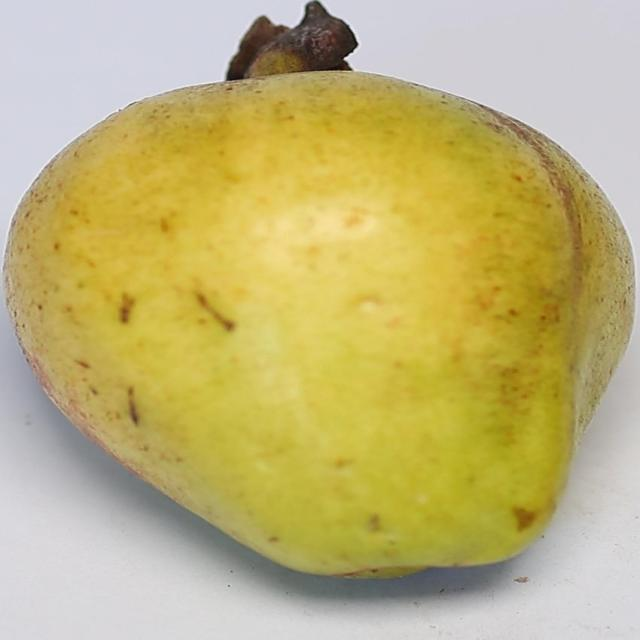Good_Guava: (2, 69, 633, 582)
